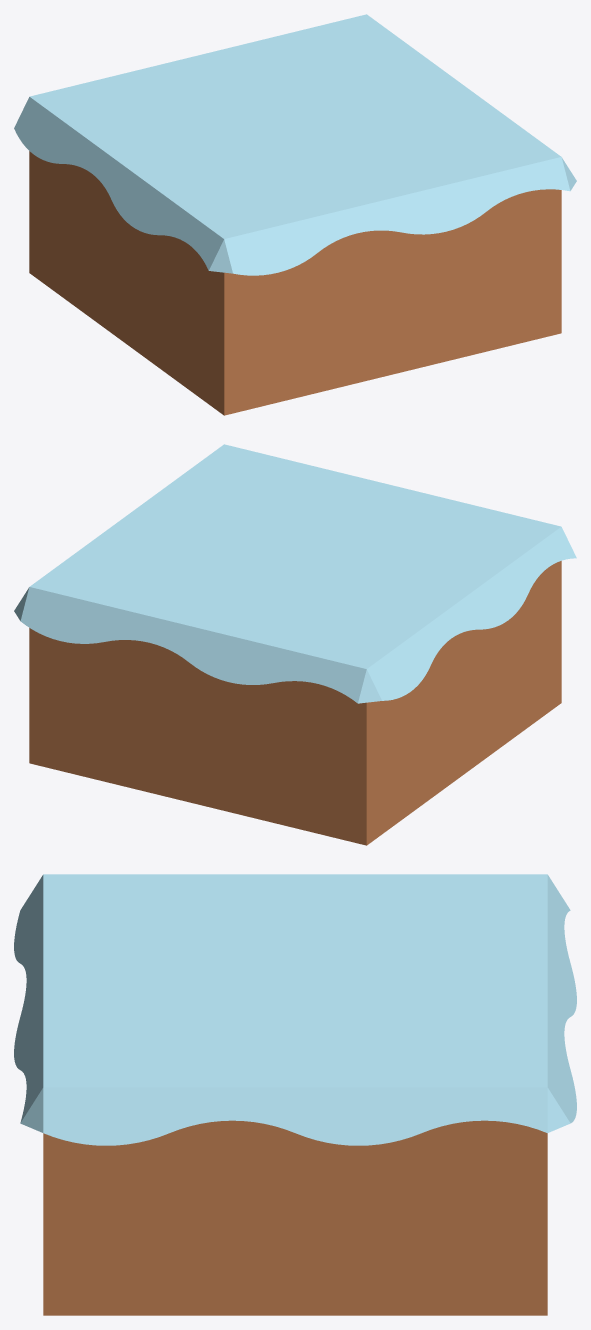
File: blockSnowLarge.dae
The picture shows the model from 3 angles, top to bottom: view 1: azimuth 30°, elevation 25°; view 2: azimuth 150°, elevation 25°; view 3: azimuth 270°, elevation 25°; orthographic projection. The views are drawn at different scales.
Visible parts, largest first — view 1: blockSnowLarge; view 2: blockSnowLarge; view 3: blockSnowLarge.
Boxes of the visible parts, bbox=[...] form: blockSnowLarge: bbox=[14, 14, 576, 415]; blockSnowLarge: bbox=[14, 444, 576, 845]; blockSnowLarge: bbox=[14, 874, 576, 1315].
Size of the model in its own units: 2.23 by 1 by 2.23.
